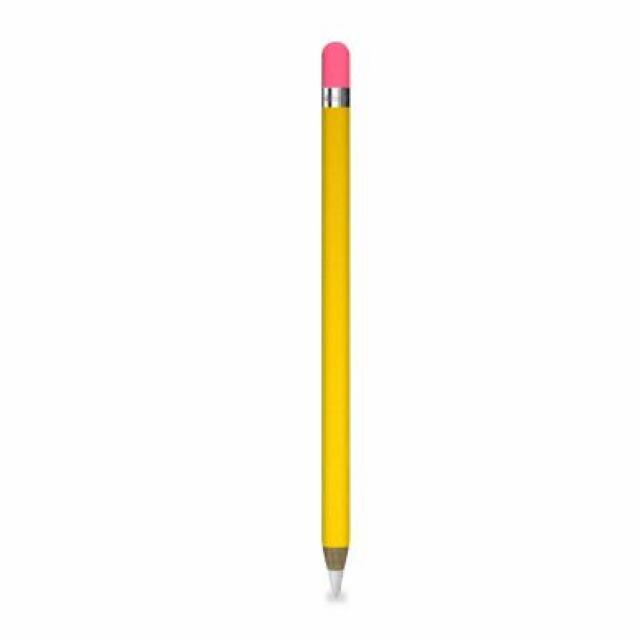pencil: (298, 524, 370, 608)
